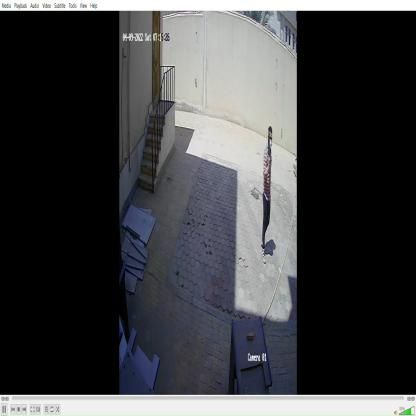handgun: (265, 125, 273, 165)
